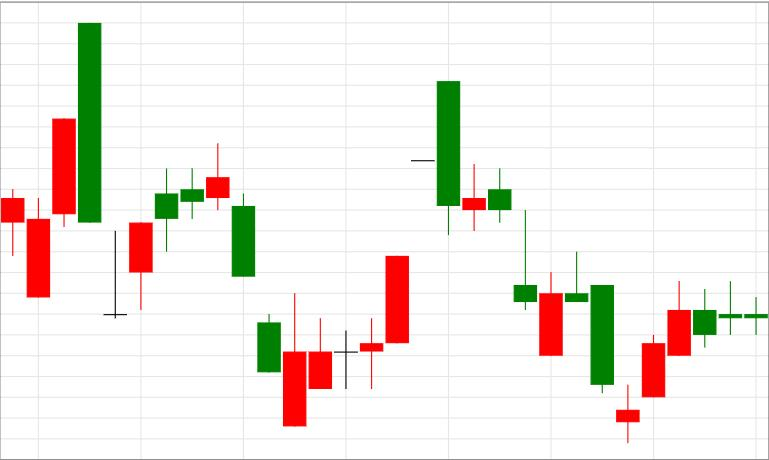morning_star_rise: (488, 169, 666, 444)
